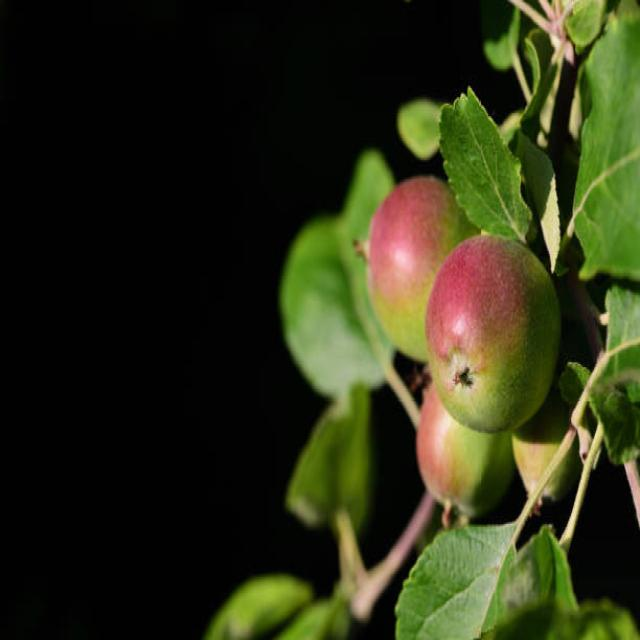Unripe: (426, 233, 562, 435)
